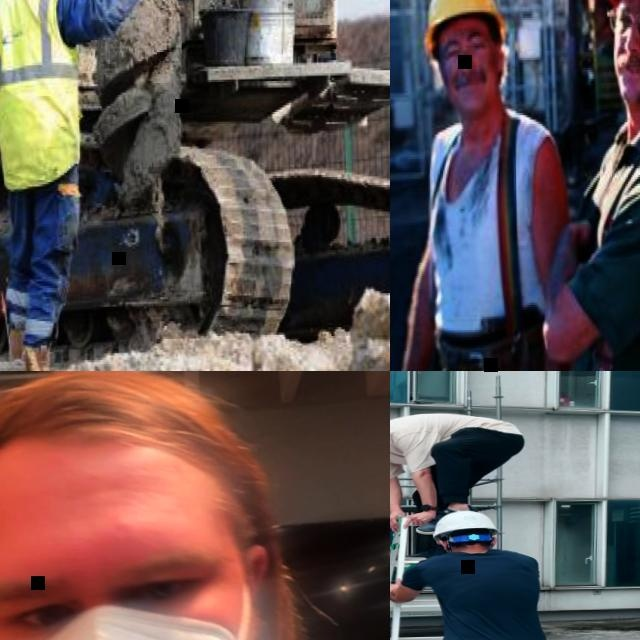Hardhat: (418, 0, 505, 45), (431, 508, 503, 538)
NO-Hardhat: (0, 371, 243, 554)
NO-Mask: (445, 66, 500, 112), (610, 50, 640, 103)
NO-Safety Vest: (427, 115, 546, 337), (566, 128, 640, 371), (418, 546, 544, 640), (390, 410, 514, 460)
Person: (0, 371, 390, 640), (390, 0, 576, 371), (0, 0, 188, 367), (538, 0, 640, 371), (390, 507, 550, 640), (390, 409, 527, 535)
Safety Vest: (0, 0, 84, 187)
machinery: (0, 0, 390, 355)
